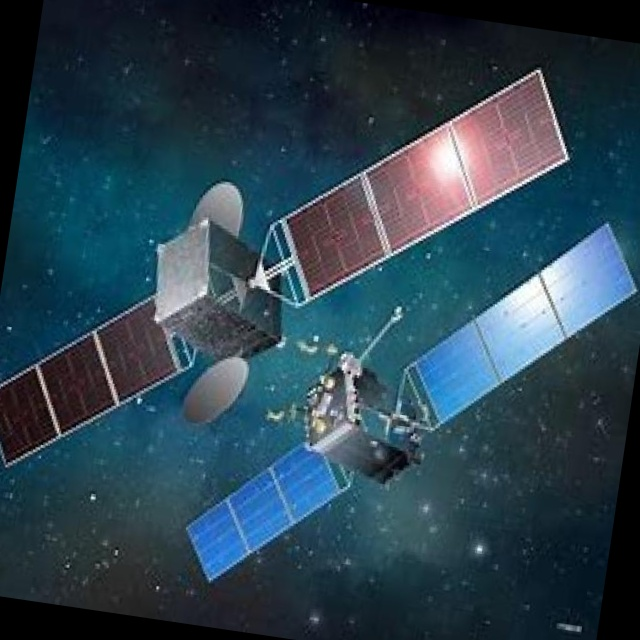satellite: (0, 0, 584, 538), (183, 174, 640, 640)
